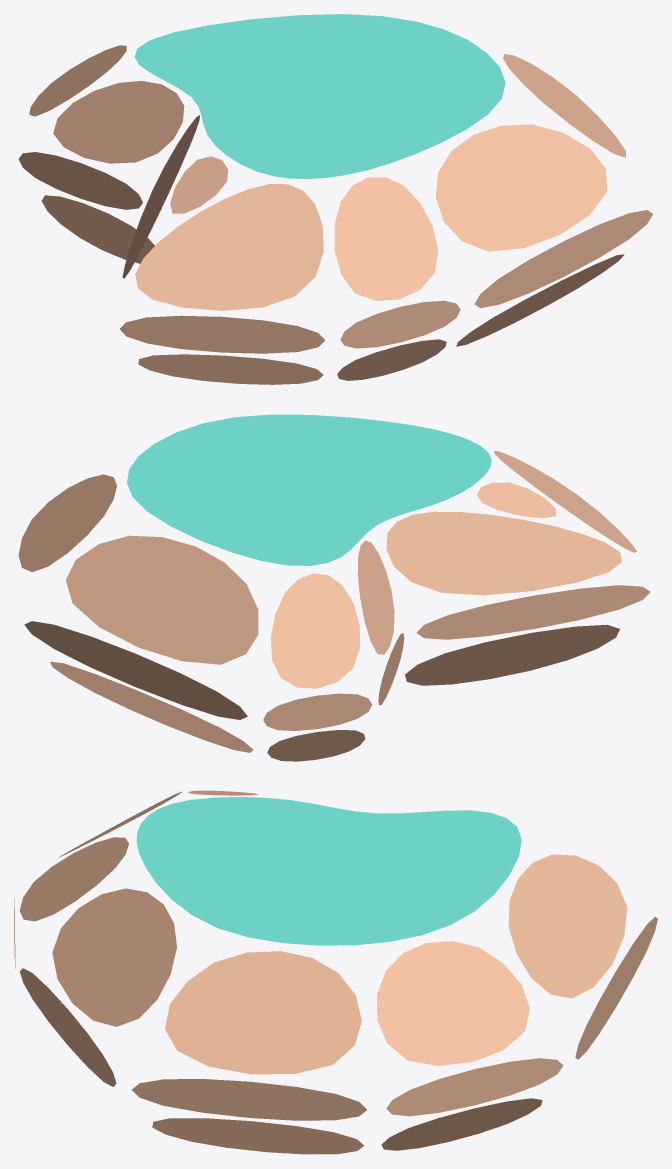
File: rock_largeC.glb
3 renders of one model, top to bottom at view 1: azimuth 30°, elevation 25°; view 2: azimuth 150°, elevation 25°; view 3: azimuth 270°, elevation 25°, orthographic. The views are drawn at different scales.
Visible parts, largest first — view 1: rock_largeC; view 2: rock_largeC; view 3: rock_largeC.
Boxes of the visible parts, box(x1,y1,x2,y2) form: rock_largeC: box(18, 14, 652, 384); rock_largeC: box(18, 414, 650, 761); rock_largeC: box(14, 790, 657, 1154).
Bounding box in the file's own units: 1.05 × 0.3211 × 1.01.
